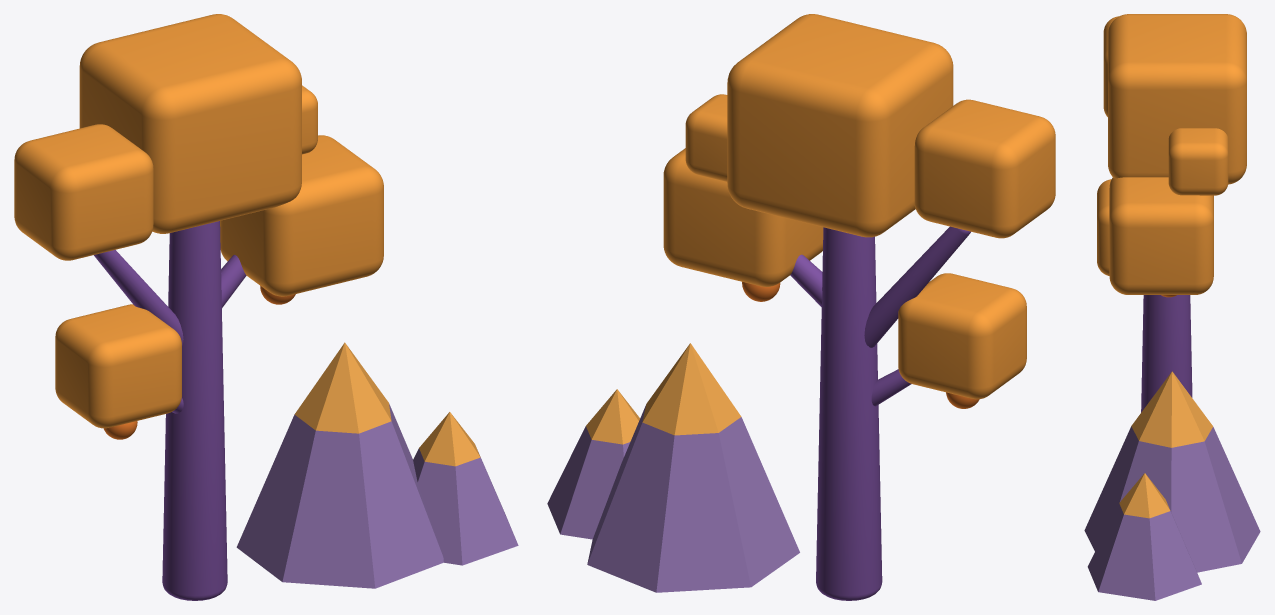
Rendered from environment.glb.
3 renders of one model, left to right at view 1: azimuth 30°, elevation 25°; view 2: azimuth 150°, elevation 25°; view 3: azimuth 270°, elevation 25°, orthographic. The views are drawn at different scales.
Visible parts, largest first — view 1: Leaf_A, Rock_Main_Body, Tree_Trunk, Leaf_D, Leaf_B, Leaf_E, Rock_Side_Body, Rock_Main_Cap, Branch_L, Rock_Side_Cap, Leaf_C, Branch_R; view 2: Leaf_A, Rock_Main_Body, Tree_Trunk, Leaf_B, Leaf_E, Leaf_D, Rock_Main_Cap, Rock_Side_Body, Branch_L, Leaf_C, Rock_Side_Cap, Branch_R (+1 smaller); view 3: Leaf_A, Rock_Main_Body, Leaf_D, Rock_Side_Body, Tree_Trunk, Leaf_C, Rock_Main_Cap, Rock_Side_Cap, Leaf_E, Leaf_B.
Part boxes in pixels (x1,y1,x2,y2): Leaf_A: [79, 14, 301, 233]; Rock_Main_Body: [236, 403, 443, 588]; Tree_Trunk: [162, 221, 227, 600]; Leaf_D: [220, 135, 383, 296]; Leaf_B: [14, 124, 153, 260]; Leaf_E: [55, 304, 181, 428]; Rock_Side_Body: [413, 448, 518, 565]; Rock_Main_Cap: [294, 342, 391, 433]; Branch_L: [94, 250, 183, 346]; Rock_Side_Cap: [419, 412, 480, 466]; Leaf_C: [302, 85, 317, 154]; Branch_R: [221, 255, 246, 307]; Leaf_A: [727, 14, 953, 237]; Rock_Main_Body: [587, 404, 799, 592]; Tree_Trunk: [816, 227, 882, 600]; Leaf_B: [914, 99, 1055, 238]; Leaf_E: [898, 273, 1026, 399]; Leaf_D: [663, 148, 823, 286]; Rock_Main_Cap: [642, 343, 741, 435]; Rock_Side_Body: [547, 426, 630, 539]; Branch_L: [864, 226, 970, 347]; Leaf_C: [685, 94, 727, 181]; Rock_Side_Cap: [586, 389, 639, 444]; Branch_R: [790, 254, 822, 306]; Leaf_A: [1108, 14, 1246, 184]; Rock_Main_Body: [1084, 426, 1260, 572]; Leaf_D: [1109, 177, 1213, 294]; Rock_Side_Body: [1087, 503, 1201, 600]; Tree_Trunk: [1141, 295, 1192, 412]; Leaf_C: [1168, 128, 1228, 195]; Rock_Main_Cap: [1131, 371, 1212, 447]; Rock_Side_Cap: [1119, 473, 1170, 518]; Leaf_E: [1097, 179, 1111, 275]; Leaf_B: [1103, 16, 1118, 116].
Bounding box in the file's own units: 4.36 × 4.66 × 1.68.
